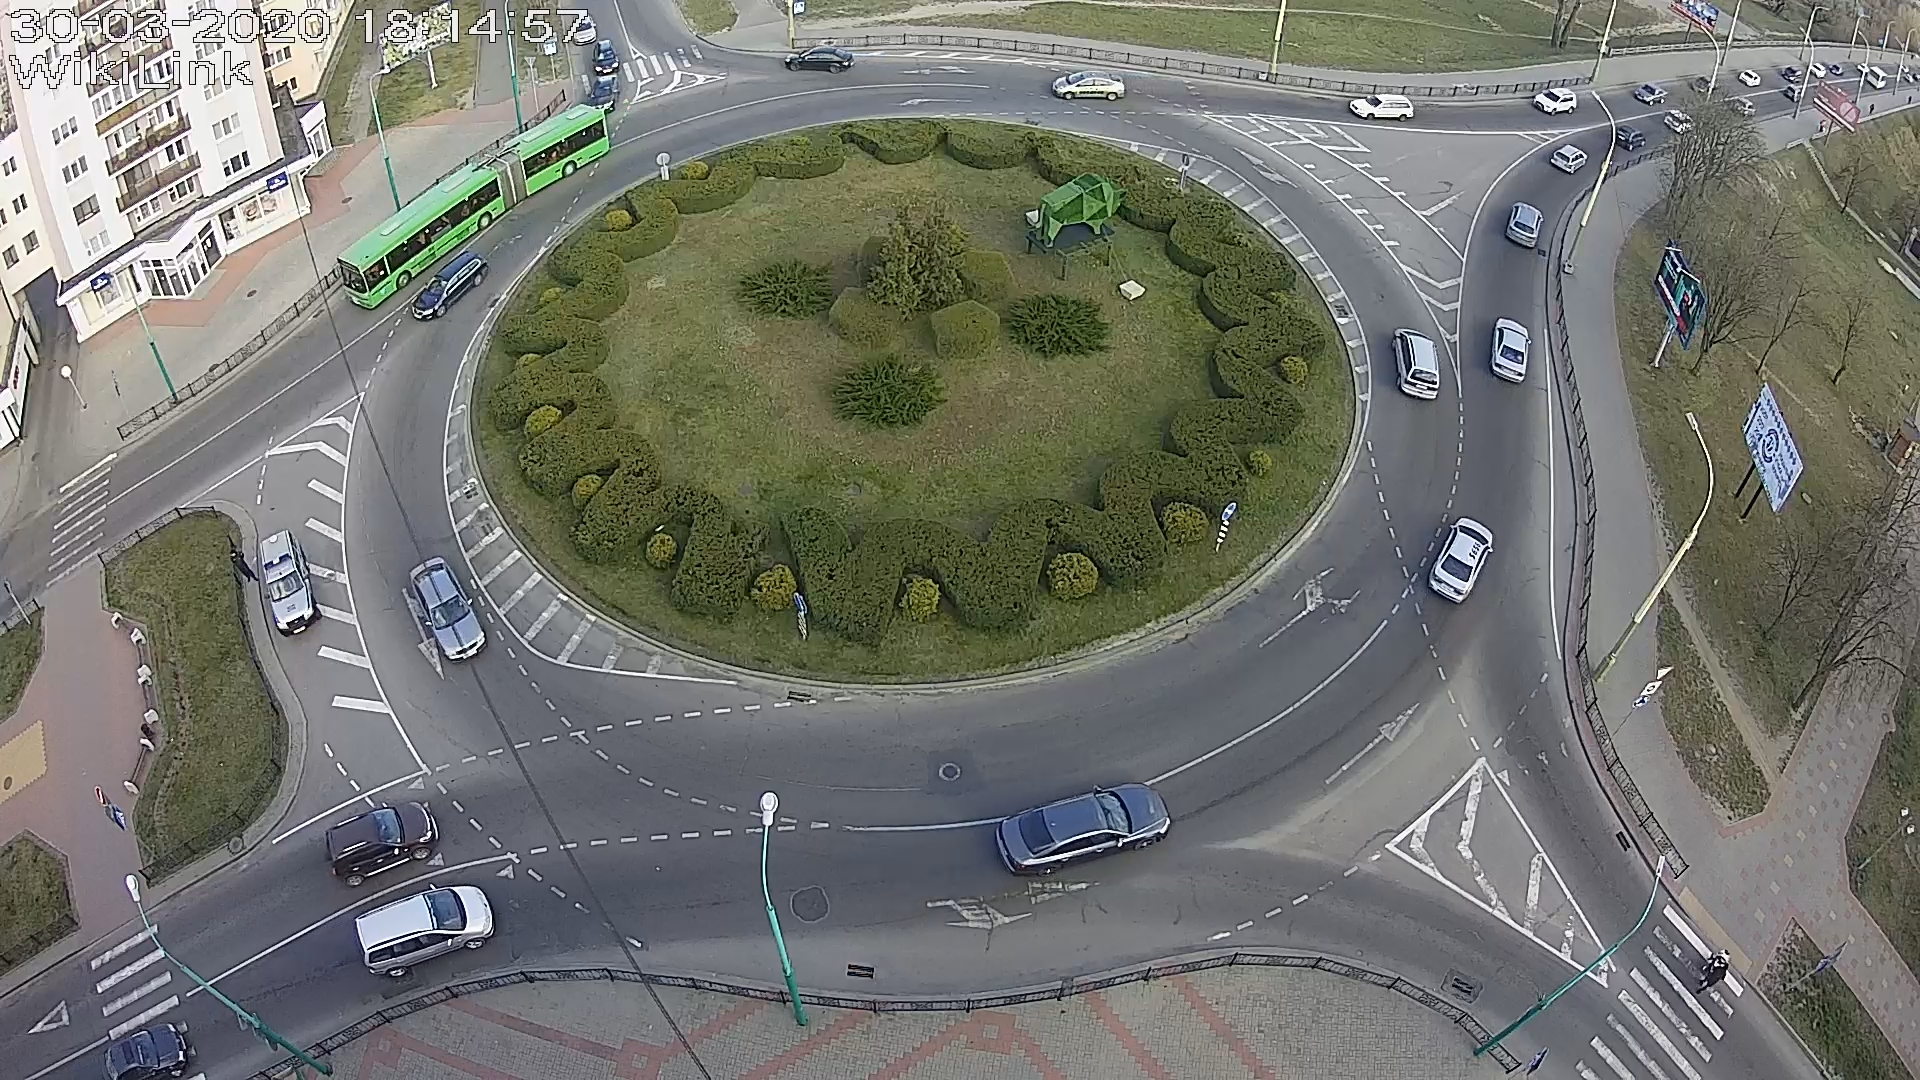bus: (338, 104, 611, 309)
car: (994, 783, 1171, 877), (353, 884, 496, 978), (324, 802, 439, 887), (409, 556, 488, 665), (258, 530, 322, 638), (1428, 517, 1494, 604), (411, 251, 491, 320), (94, 1022, 189, 1080), (1391, 328, 1441, 400), (1490, 316, 1531, 382), (1052, 70, 1125, 102), (1350, 94, 1415, 123), (785, 47, 855, 74), (1506, 200, 1545, 247), (585, 75, 620, 115), (1534, 86, 1577, 113), (1549, 144, 1589, 174), (592, 38, 620, 75), (1615, 124, 1647, 152), (1634, 83, 1669, 105)
